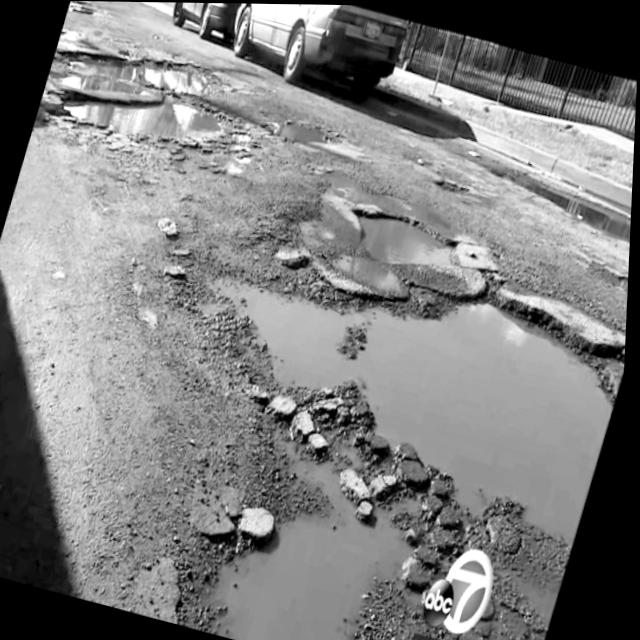pathole: (0, 1, 635, 640)
